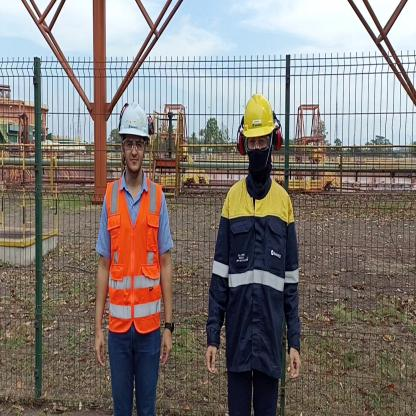Balaclava: (246, 134, 273, 188)
C_eletrica: (207, 186, 301, 357)
Capacete: (240, 91, 277, 136), (119, 101, 151, 136)
colete: (107, 179, 162, 333)
